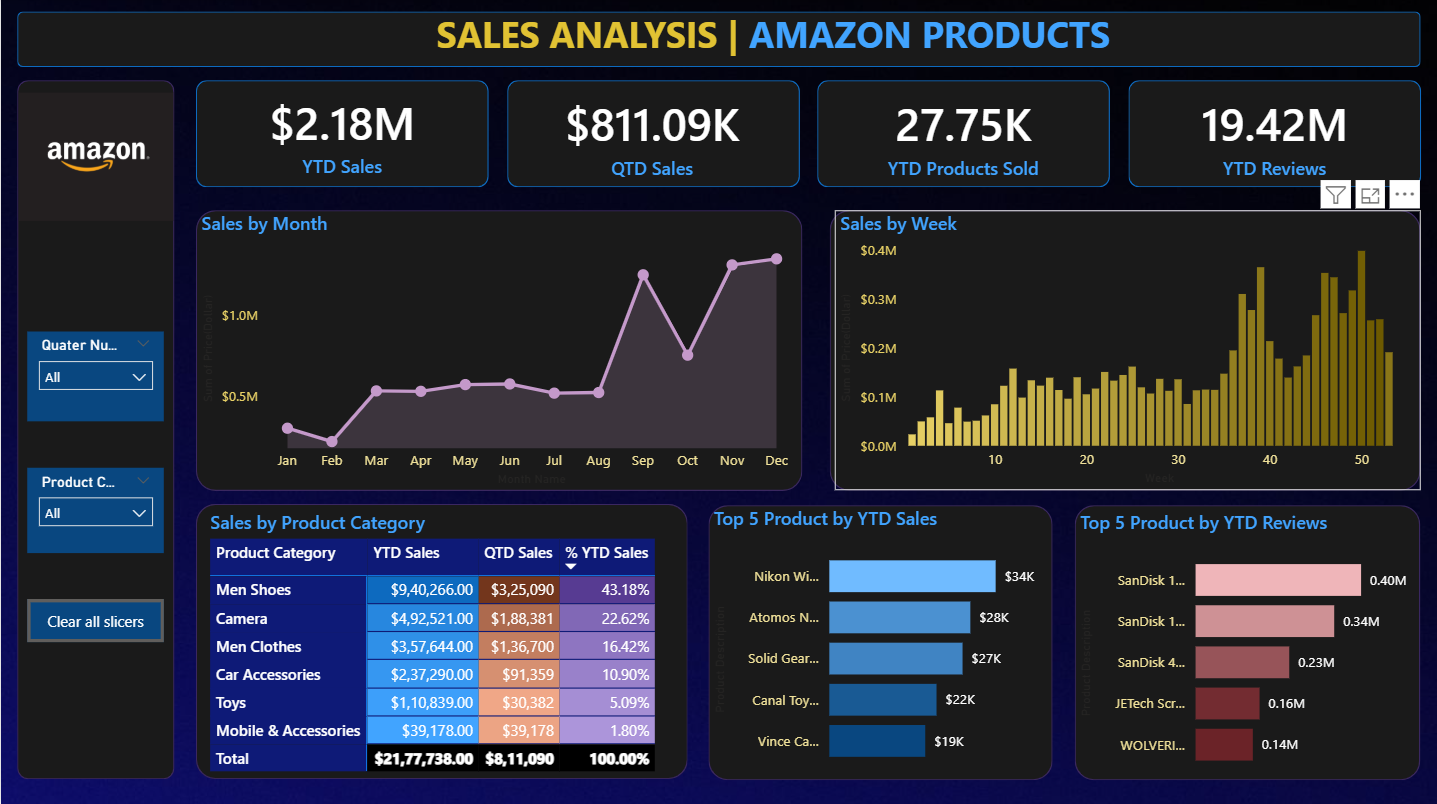

What the dashboard file says about the page in this screenshot:
{"tool":"powerbi","page":{"name":"Dashboard","canvas":[1280,720],"ordinal":0},"visuals":[{"type":"shape","box":[14.5,10.9,1249.9,49.5],"z":0},{"type":"shape","box":[14.5,72.4,139.9,622.5],"z":1000},{"type":"textbox","box":[382.6,4.7,655.8,61.6],"z":2000},{"type":"shape","box":[173.7,72.4,260.6,95.3],"z":3000},{"type":"shape","box":[450.4,72.4,260.6,95.3],"z":4000},{"type":"shape","box":[727.1,72.4,260.6,95.3],"z":5000},{"type":"shape","box":[1003.8,72.4,260.6,95.3],"z":6000},{"type":"card","fields":{"Values":["Amazon_Data.YTD Sales"]},"box":[173.7,72.4,260.6,96.5],"z":7000,"group":"g1"},{"type":"group","id":"g1","title":"Group 1","box":[173.7,72.4,1090.6,97.7],"z":7000},{"type":"card","fields":{"Values":["Amazon_Data.QTD Sales"]},"box":[450,73.6,260.6,96.5],"z":8000,"group":"g1"},{"type":"shape","box":[173.7,188.2,540,250],"z":8000},{"type":"card","fields":{"Values":["Amazon_Data.YTD Products Sold"]},"box":[727.5,73.6,260.6,96.5],"z":9000,"group":"g1"},{"type":"areaChart","title":" Sales by Month ","fields":{"Category":["Date Table.Month Name"],"Y":["Sum(Amazon_Data.Price(Dollar))"]},"box":[173.7,188.2,538.1,250.9],"z":9000},{"type":"card","fields":{"Values":["Amazon_Data.YTD Reviews"]},"box":[1003.7,73.6,260.6,96.5],"z":10000,"group":"g1"},{"type":"shape","box":[738.3,188.2,526,249.7],"z":10000},{"type":"columnChart","title":"Sales by Week","fields":{"Category":["Date Table.Week"],"Y":["Sum(Amazon_Data.Price(Dollar))"]},"box":[742,188.2,522.4,249.7],"z":11000},{"type":"shape","box":[173.7,450,437.9,244.9],"z":12000},{"type":"pivotTable","title":"Sales by Product Category","fields":{"Rows":["Amazon_Data.Product Category"],"Values":["Amazon_Data.YTD Sales1","Amazon_Data.QTD Sales","Amazon_Data.YTD Sales"]},"box":[181,453.6,430.7,238.9],"z":13000},{"type":"shape","box":[629.8,451.2,306.4,244.9],"z":14000},{"type":"shape","box":[956.7,451.2,307.6,244.9],"z":15000},{"type":"clusteredBarChart","title":"Top 5 Product by YTD Sales","fields":{"Category":["Amazon_Data.Product Description"],"Y":["Amazon_Data.YTD Sales"]},"box":[629.8,451.2,306.4,244.9],"z":16000},{"type":"clusteredBarChart","title":"Top 5 Product by YTD Reviews","fields":{"Category":["Amazon_Data.Product Description"],"Y":["Amazon_Data.YTD Reviews"]},"box":[956.7,453.6,306.4,244.9],"z":17000},{"type":"slicer","fields":{"Values":["Amazon_Data.Product Category"]},"box":[22.9,417.4,121.9,76],"z":18000},{"type":"actionButton","box":[22.9,534.5,121.9,38.6],"z":19000},{"type":"slicer","fields":{"Values":["Date Table.Quater Number"]},"box":[22.9,295.6,121.9,79.6],"z":20000},{"type":"image","box":[10.7,60.3,147.7,160.3],"z":21000}]}

Visuals, with their boxes in screenshot pixels (x1, y1, x2, y2), scaled from the page's 1280x720 canvas onto the 1437x804 screenshot:
shape: box=[16, 12, 1419, 67]
shape: box=[16, 81, 173, 776]
textbox: box=[430, 5, 1166, 74]
shape: box=[195, 81, 488, 187]
shape: box=[506, 81, 798, 187]
shape: box=[816, 81, 1109, 187]
shape: box=[1127, 81, 1419, 187]
card - Amazon_Data.YTD Sales: box=[195, 81, 488, 189]
"Group 1" group: box=[195, 81, 1419, 190]
card - Amazon_Data.QTD Sales: box=[505, 82, 798, 190]
shape: box=[195, 210, 801, 489]
card - Amazon_Data.YTD Products Sold: box=[817, 82, 1109, 190]
" Sales by Month " areaChart: box=[195, 210, 799, 490]
card - Amazon_Data.YTD Reviews: box=[1127, 82, 1419, 190]
shape: box=[829, 210, 1419, 489]
"Sales by Week" columnChart: box=[833, 210, 1419, 489]
shape: box=[195, 502, 687, 776]
"Sales by Product Category" pivotTable: box=[203, 507, 687, 773]
shape: box=[707, 504, 1051, 777]
shape: box=[1074, 504, 1419, 777]
"Top 5 Product by YTD Sales" clusteredBarChart: box=[707, 504, 1051, 777]
"Top 5 Product by YTD Reviews" clusteredBarChart: box=[1074, 507, 1418, 780]
slicer - Amazon_Data.Product Category: box=[26, 466, 163, 551]
actionButton: box=[26, 597, 163, 640]
slicer - Date Table.Quater Number: box=[26, 330, 163, 419]
image: box=[12, 67, 178, 246]
